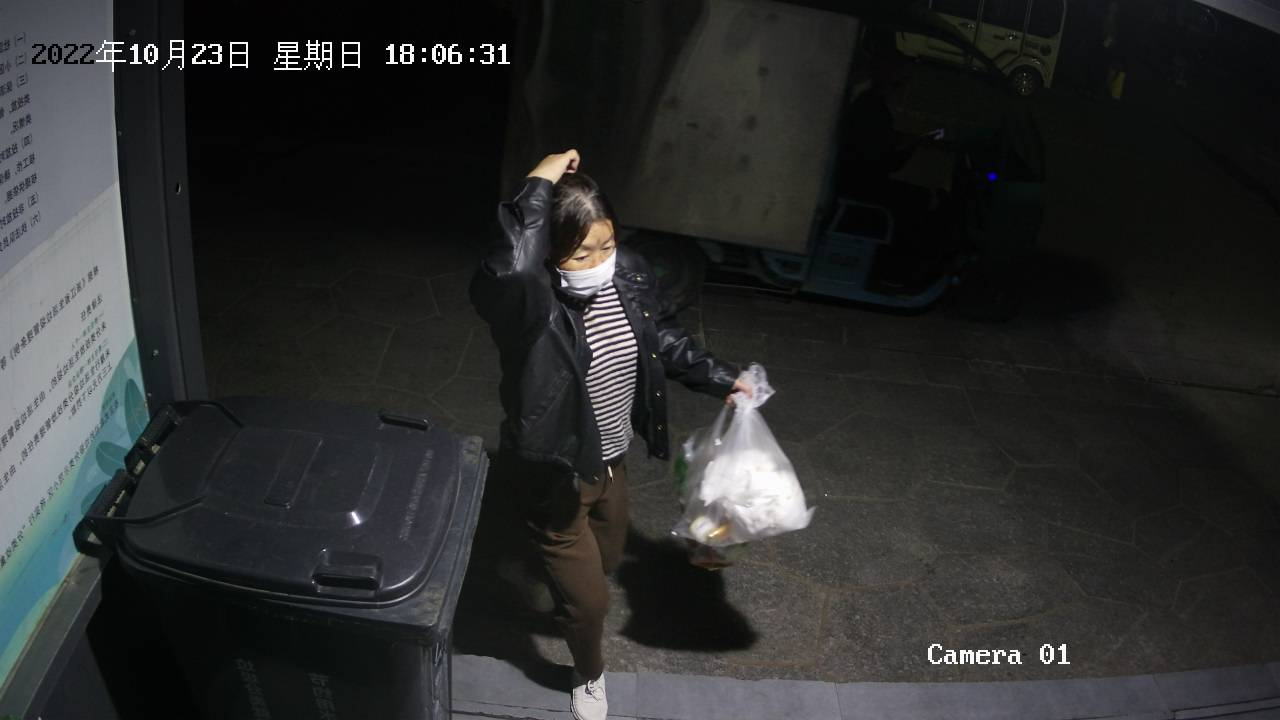garbage-bag: (669, 361, 821, 575)
person: (466, 148, 753, 720)
